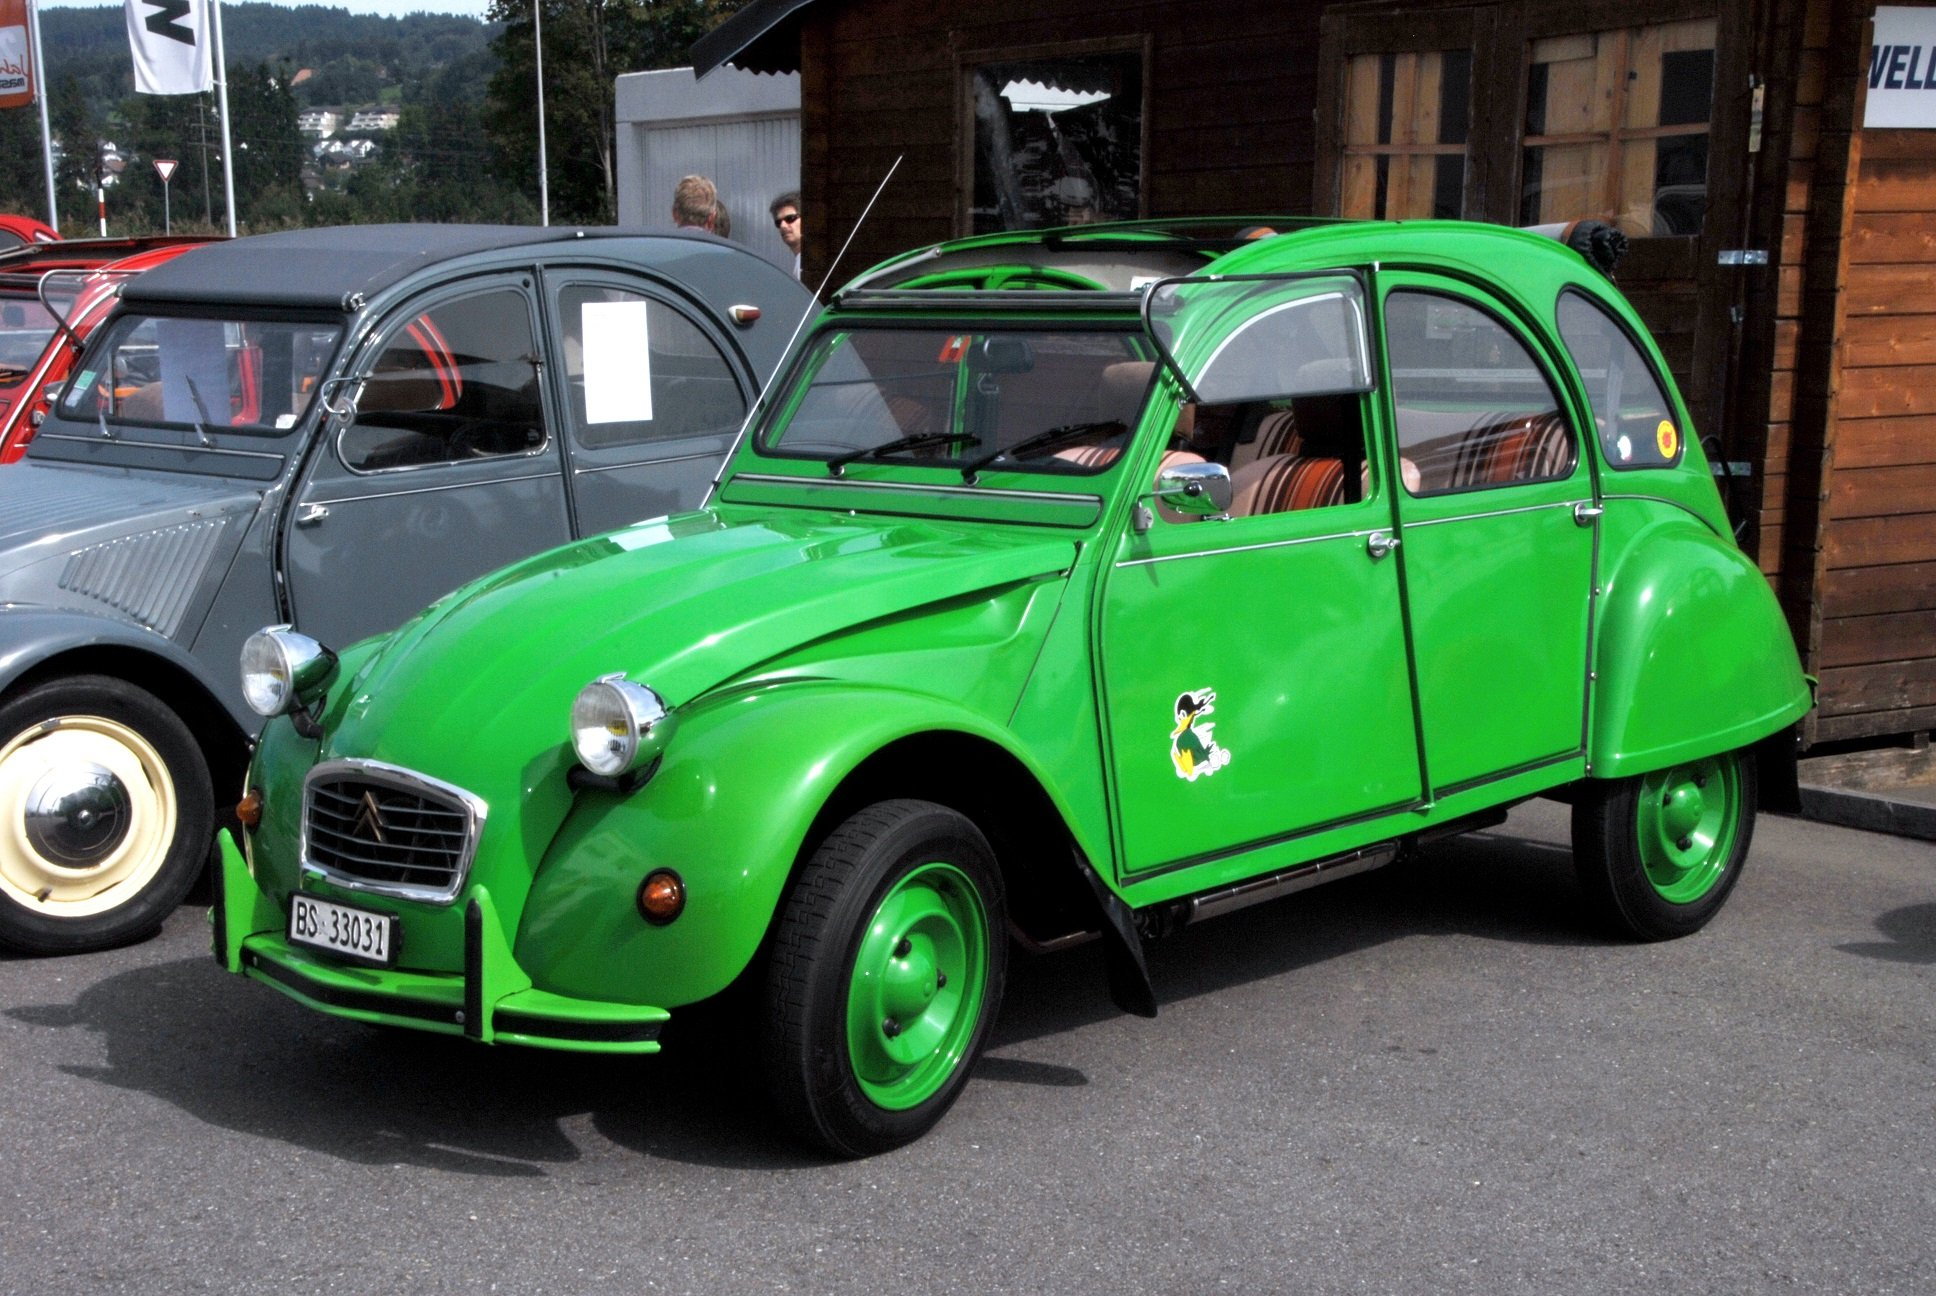headlight: (557, 665, 667, 778), (239, 606, 320, 712)
wheel: (721, 759, 1012, 1135), (0, 634, 210, 958), (1563, 725, 1765, 947)
